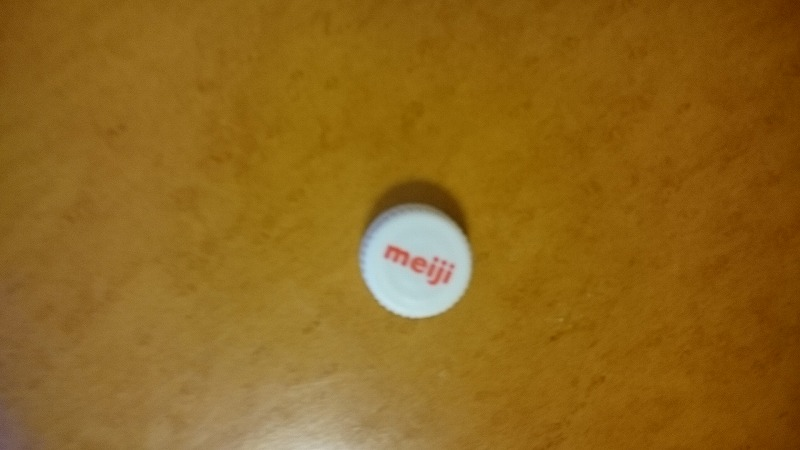B: (353, 197, 484, 326)
